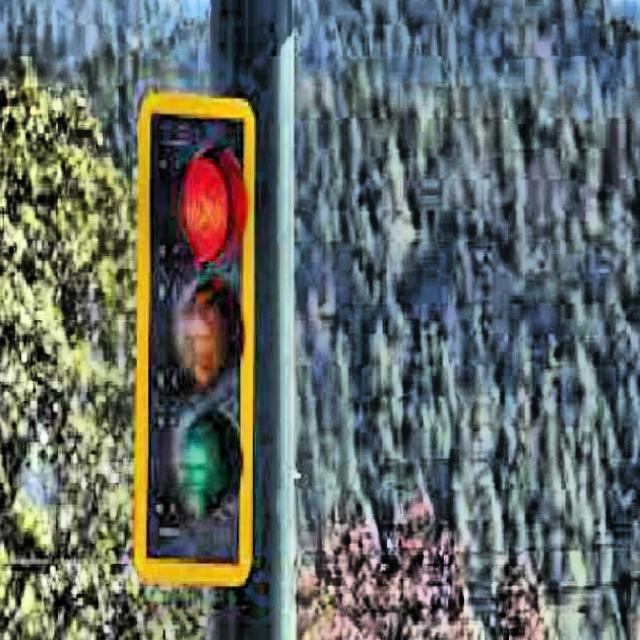red: (137, 101, 262, 572)
